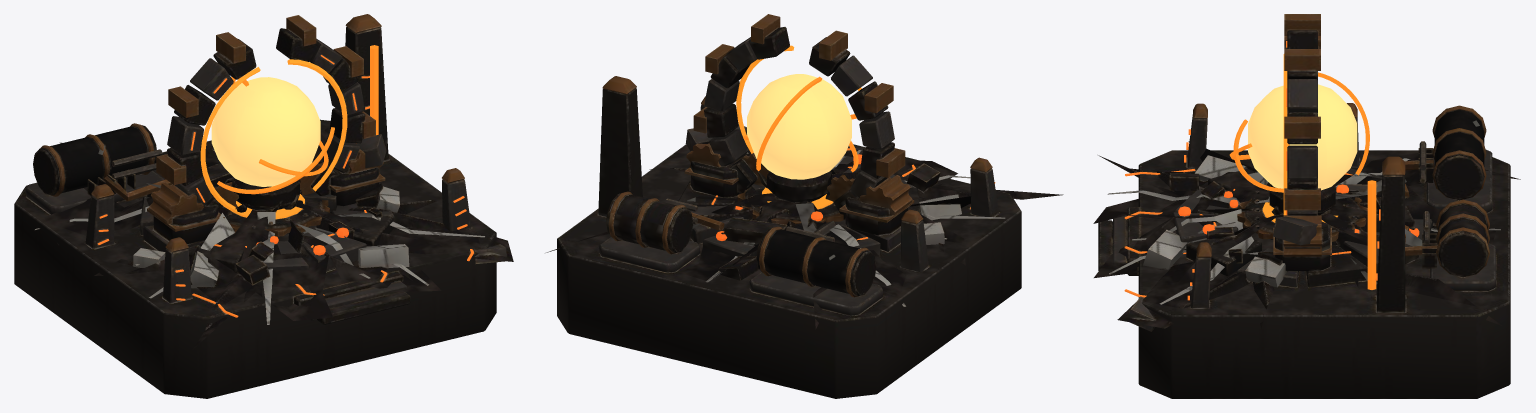
Rendered from star-cage-corona.glb.
3 views of the same model, side by side, from view 1: azimuth 30°, elevation 25°; view 2: azimuth 150°, elevation 25°; view 3: azimuth 270°, elevation 25° (orthographic). The views are drawn at different scales.
Parts seen in each view (by area): view 1: site_star_cage_corona_body, site_star_cage_corona_ruin, site_star_cage_corona_core; view 2: site_star_cage_corona_body, site_star_cage_corona_ruin, site_star_cage_corona_core; view 3: site_star_cage_corona_body, site_star_cage_corona_ruin, site_star_cage_corona_core.
Boxes of the visible parts, x1,y1,x2,y2 form: site_star_cage_corona_body: [14, 14, 496, 398]; site_star_cage_corona_ruin: [35, 127, 513, 349]; site_star_cage_corona_core: [211, 76, 334, 194]; site_star_cage_corona_body: [557, 14, 1021, 398]; site_star_cage_corona_ruin: [546, 123, 1063, 329]; site_star_cage_corona_core: [743, 74, 858, 179]; site_star_cage_corona_body: [1098, 14, 1510, 398]; site_star_cage_corona_ruin: [1093, 120, 1520, 331]; site_star_cage_corona_core: [1229, 72, 1369, 192].
Size of the model in its own units: 5.69 by 4.26 by 5.88.
7 materials, 1 textured.
